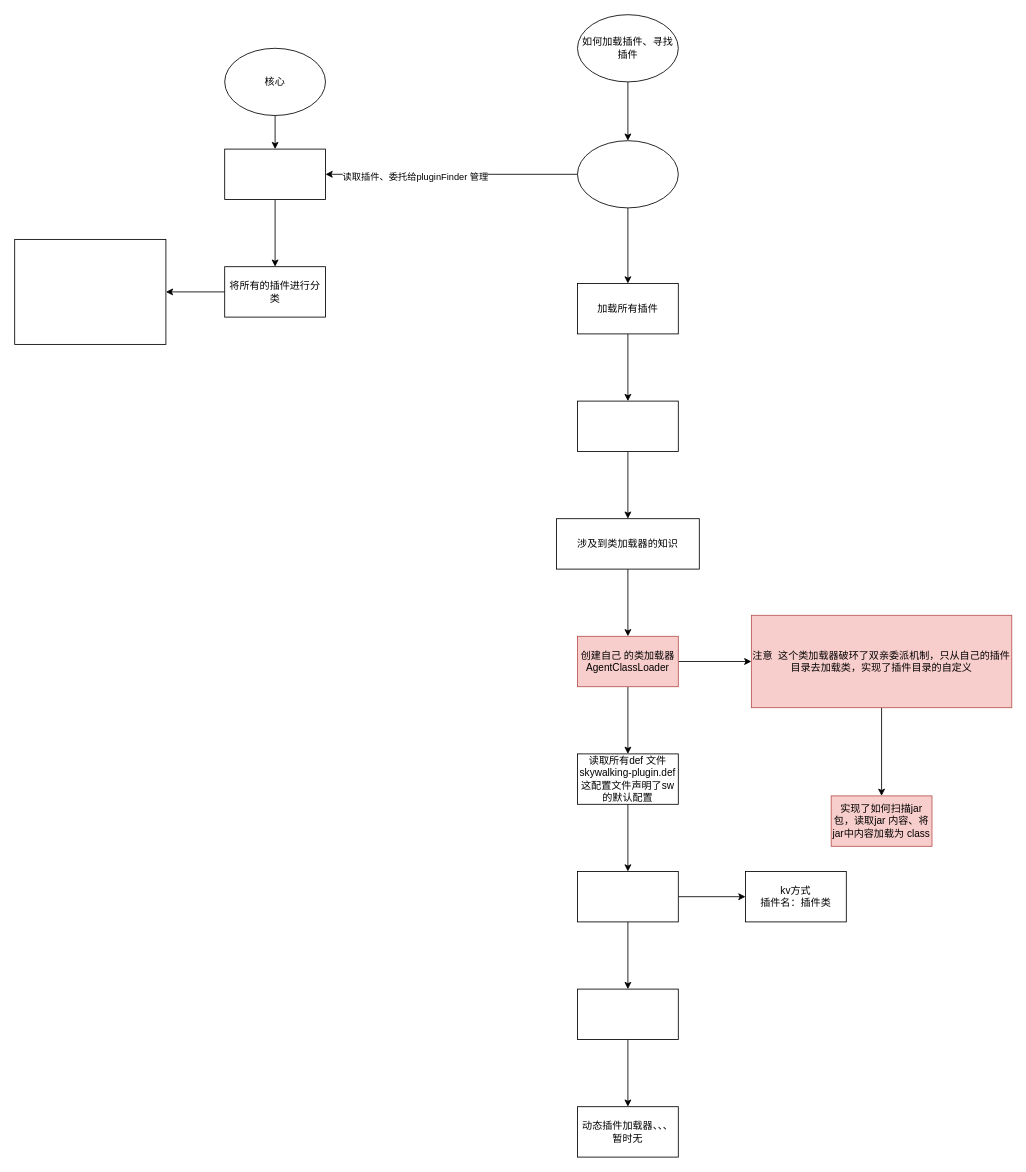
This 1026x1172 diagram has some shape labels left out. The shapes that lost their labels are listed below. From the top down, each one's box as (x1, y1, x2, y2) in pixels, then its label:
(224, 148, 326, 200): pluginFinder 插件如何匹配
(577, 140, 678, 208): 1. 插件引导器 PluginBootstrap
(14, 239, 166, 344): 根据类名匹配： nameMatch 根据签名匹配： 根据唯一匹配，大概是类名+函数名 是否是引导器类： 放一些jdk自己提供的类，进行增强
(577, 400, 678, 452): PluginBootstrap#loadPlugins
(577, 871, 678, 922): 将所有配置的对象，都保存起来
(577, 988, 678, 1040): 实例化这些 插件对象 AbstractClassEnhancePluginDefine
